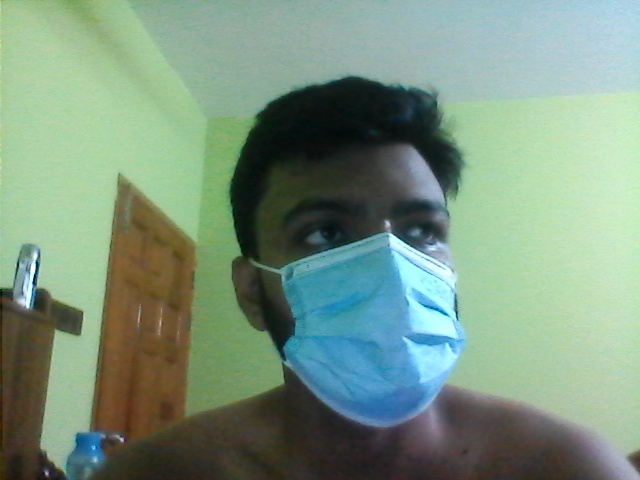Mask: (283, 230, 463, 425)
